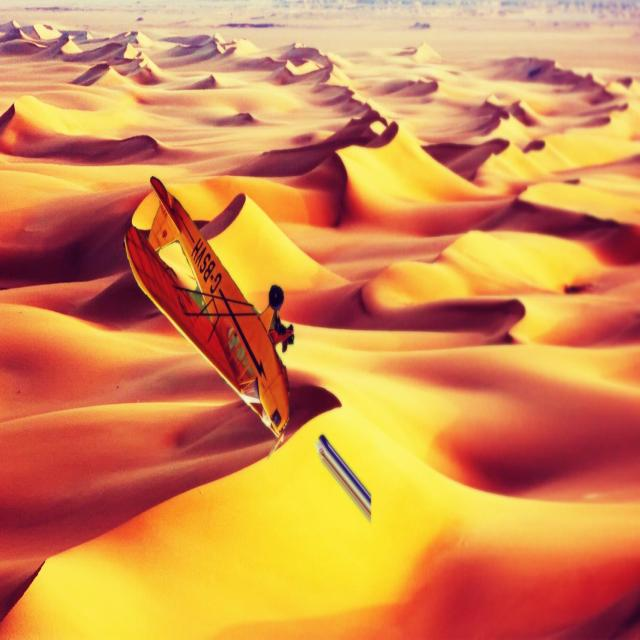airplane: (123, 176, 292, 450)
